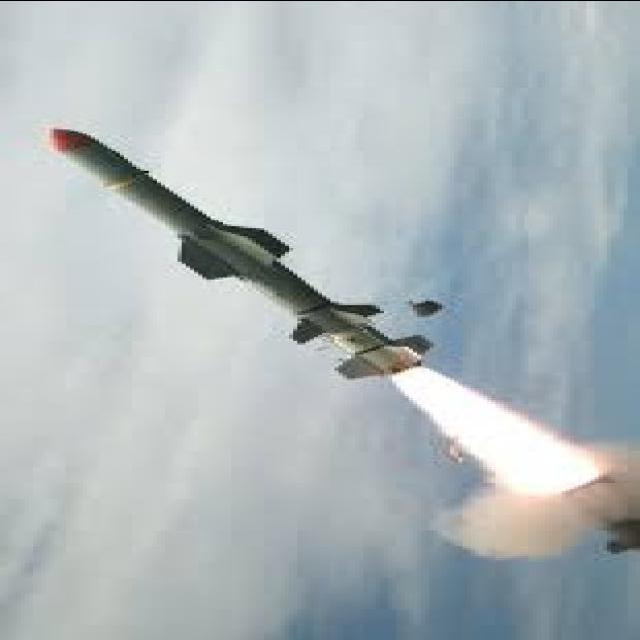missile: (42, 123, 420, 371)
